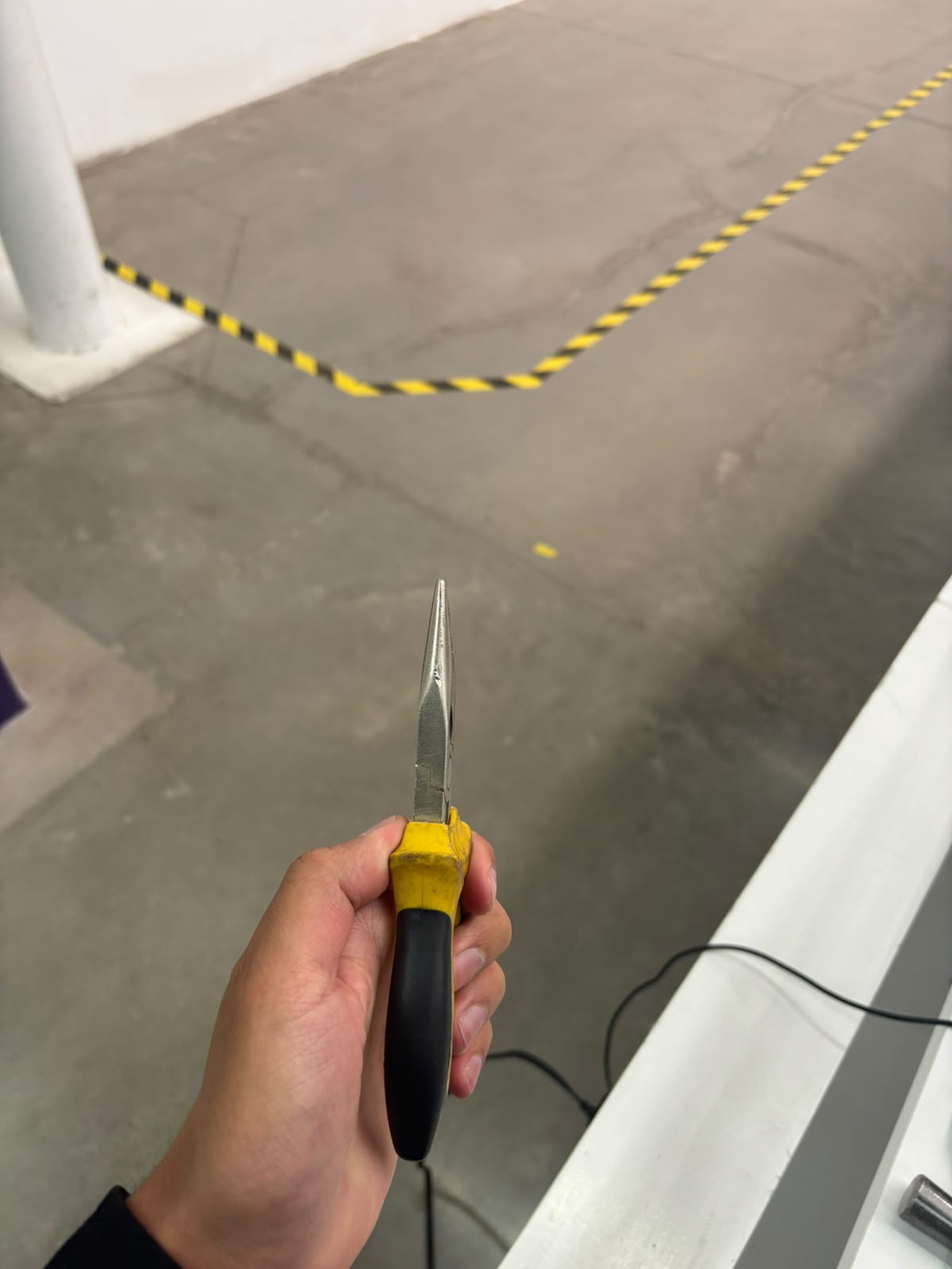plier: (325, 571, 543, 1184)
